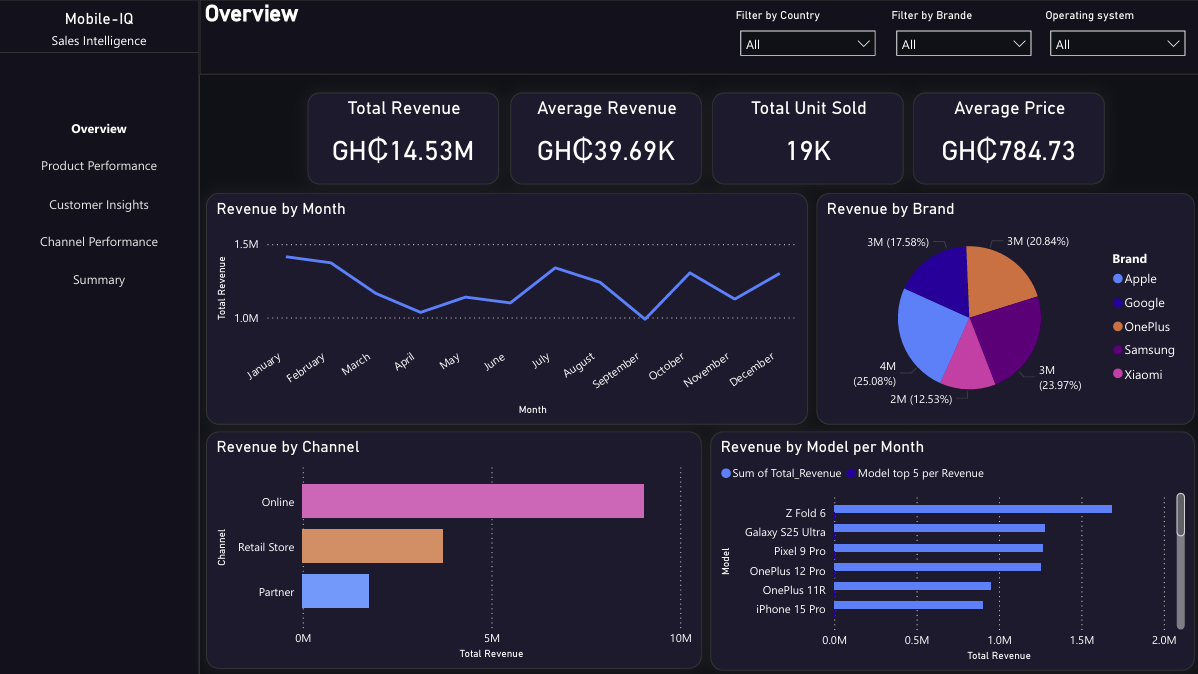

The page's visual inventory and layout, read from the dashboard file:
{"tool":"powerbi","page":{"name":"Overview Page","canvas":[1280,720],"ordinal":0},"visuals":[{"type":"lineChart","title":"Revenue by Month","fields":{"Category":["Fact_Sales.Transaction_Date.Variation.Date Hierarchy.Month"],"Y":["Sum(Fact_Sales.Total_Revenue)"]},"box":[232.2,197.2,629.9,256.1],"z":0},{"type":"card","title":"Total Revenue","fields":{"Values":["Fact_Sales.Overal revenue"]},"box":[327.7,85.9,203.6,98.6],"z":1000},{"type":"card","title":"Average Revenue","fields":{"Values":["Fact_Sales.Average Revenue"]},"box":[544,85.9,203.6,98.6],"z":2000},{"type":"card","title":"Total Unit Sold","fields":{"Values":["Fact_Sales.Total unit sold"]},"box":[758.7,85.9,203.6,98.6],"z":3000},{"type":"card","title":"Average Price","fields":{"Values":["Fact_Sales.Average Price"]},"box":[970.3,85.9,205.2,98.6],"z":4000},{"type":"pieChart","title":"Revenue by Brand","fields":{"Y":["Fact_Sales.Overal revenue"],"Series":["Fact_Sales.Brand"]},"box":[871.7,197.2,388.1,256.1],"z":5000},{"type":"shape","box":[0,0,214,720],"z":6000},{"type":"actionButton","box":[12.5,115.5,188.1,40.3],"z":7000},{"type":"actionButton","box":[12.5,155.8,188.1,41.2],"z":8000},{"type":"actionButton","box":[12.5,197,188.1,40.3],"z":9000},{"type":"actionButton","box":[12.5,237.3,188.1,40.3],"z":10000},{"type":"actionButton","title":"Mobile-IQ","box":[0,10,214,70],"z":11000},{"type":"textbox","title":"Overview","box":[214,0,1066,80],"z":12000},{"type":"slicer","title":"Filter by Country","fields":{"Values":["Fact_Sales.Country"]},"box":[780,10,164,53],"z":13000},{"type":"slicer","title":"Filter by Brande","fields":{"Values":["Fact_Sales.Brand"]},"box":[946,10,164,53],"z":14000},{"type":"slicer","title":"Operating system","fields":{"Values":["Fact_Sales.Operating_System"]},"box":[1110,10,164,53],"z":15000},{"type":"clusteredBarChart","title":"Revenue by Channel","fields":{"Category":["Fact_Sales.Sales_Channel"],"Y":["Sum(Fact_Sales.Total_Revenue)"]},"box":[232.2,469.2,515.4,243.4],"z":16000},{"type":"clusteredBarChart","title":"Revenue by Model per Month","fields":{"Y":["Sum(Fact_Sales.Total_Revenue)","Fact_Sales.Top 5 Models by Revenue1"],"Category":["Fact_Sales.Mobile_Model"]},"box":[758.7,469.2,501,243.4],"z":17000},{"type":"actionButton","box":[13,277,188,41],"z":18000}]}

Visuals, with their boxes in screenshot pixels (x1, y1, x2, y2), scaled from the page's 1280x720 canvas onto the 1198x674 screenshot:
"Revenue by Month" lineChart: bbox=[217, 185, 807, 424]
"Total Revenue" card: bbox=[307, 80, 497, 173]
"Average Revenue" card: bbox=[509, 80, 700, 173]
"Total Unit Sold" card: bbox=[710, 80, 901, 173]
"Average Price" card: bbox=[908, 80, 1100, 173]
"Revenue by Brand" pieChart: bbox=[816, 185, 1179, 424]
shape: bbox=[0, 0, 200, 673]
actionButton: bbox=[12, 108, 188, 146]
actionButton: bbox=[12, 146, 188, 184]
actionButton: bbox=[12, 184, 188, 222]
actionButton: bbox=[12, 222, 188, 260]
"Mobile-IQ" actionButton: bbox=[0, 9, 200, 75]
"Overview" textbox: bbox=[200, 0, 1197, 75]
"Filter by Country" slicer: bbox=[730, 9, 884, 59]
"Filter by Brande" slicer: bbox=[885, 9, 1039, 59]
"Operating system" slicer: bbox=[1039, 9, 1192, 59]
"Revenue by Channel" clusteredBarChart: bbox=[217, 439, 700, 667]
"Revenue by Model per Month" clusteredBarChart: bbox=[710, 439, 1179, 667]
actionButton: bbox=[12, 259, 188, 298]
